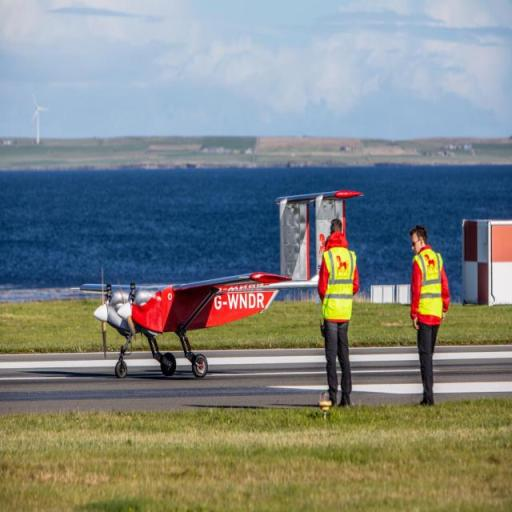uav: (77, 192, 317, 396)
